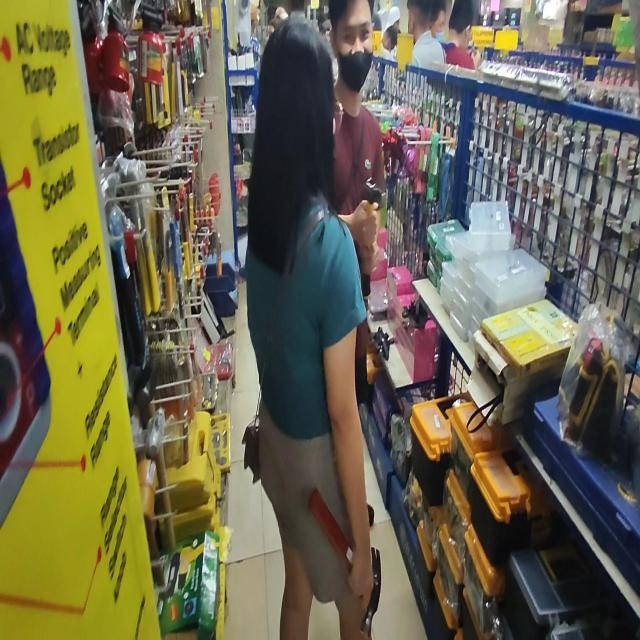hammer: (308, 488, 382, 632), (361, 178, 385, 298)
